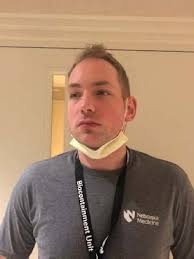mask_weared_incorrect: (70, 75, 127, 159)
